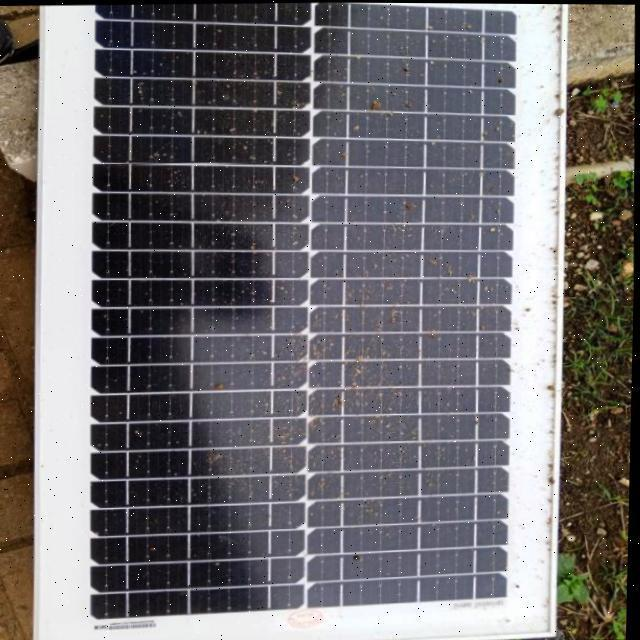Surface Contaminant: (56, 2, 522, 606)
